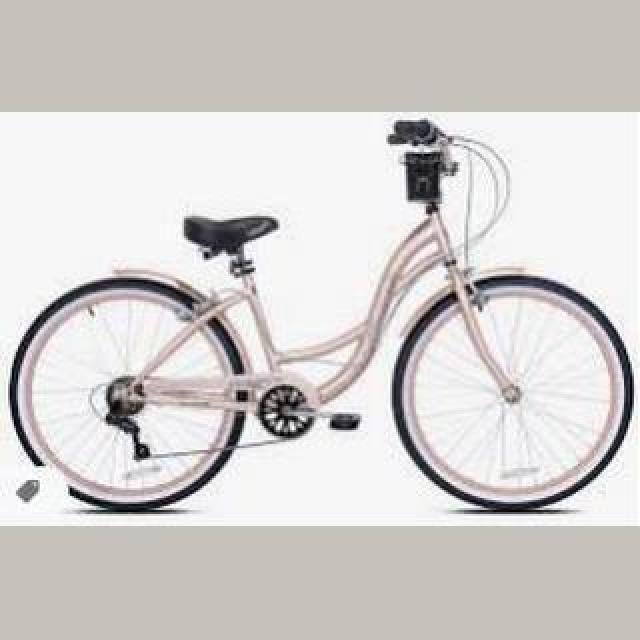Person: (7, 112, 633, 514)
